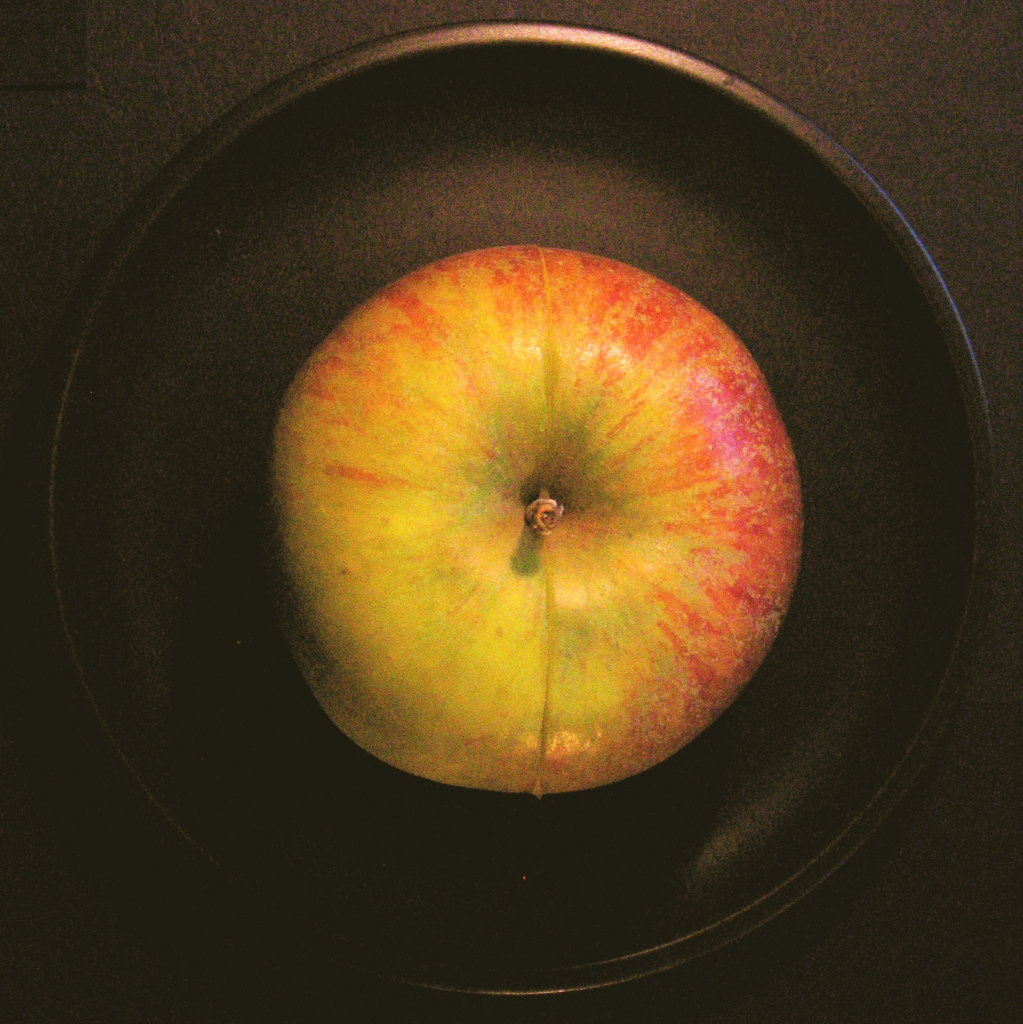Apple: (253, 226, 847, 793)
